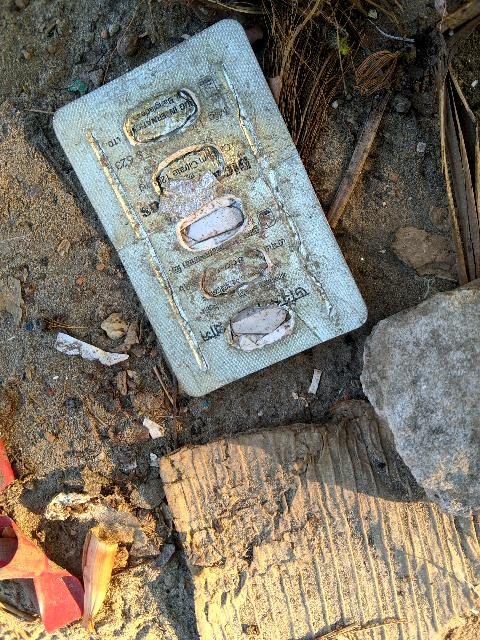medicine: (35, 2, 384, 410)
